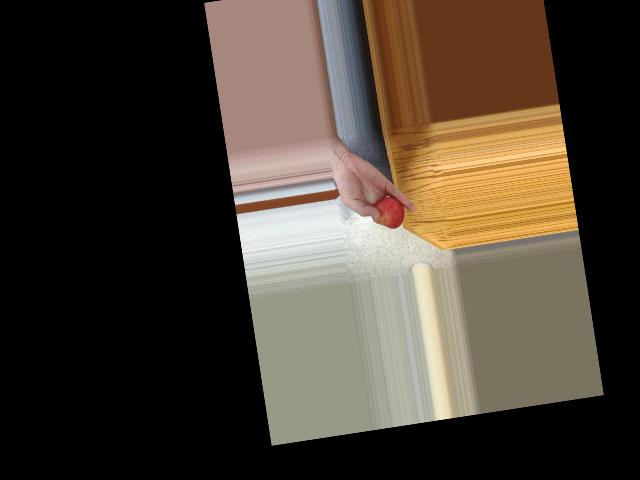apple: (367, 189, 407, 234)
